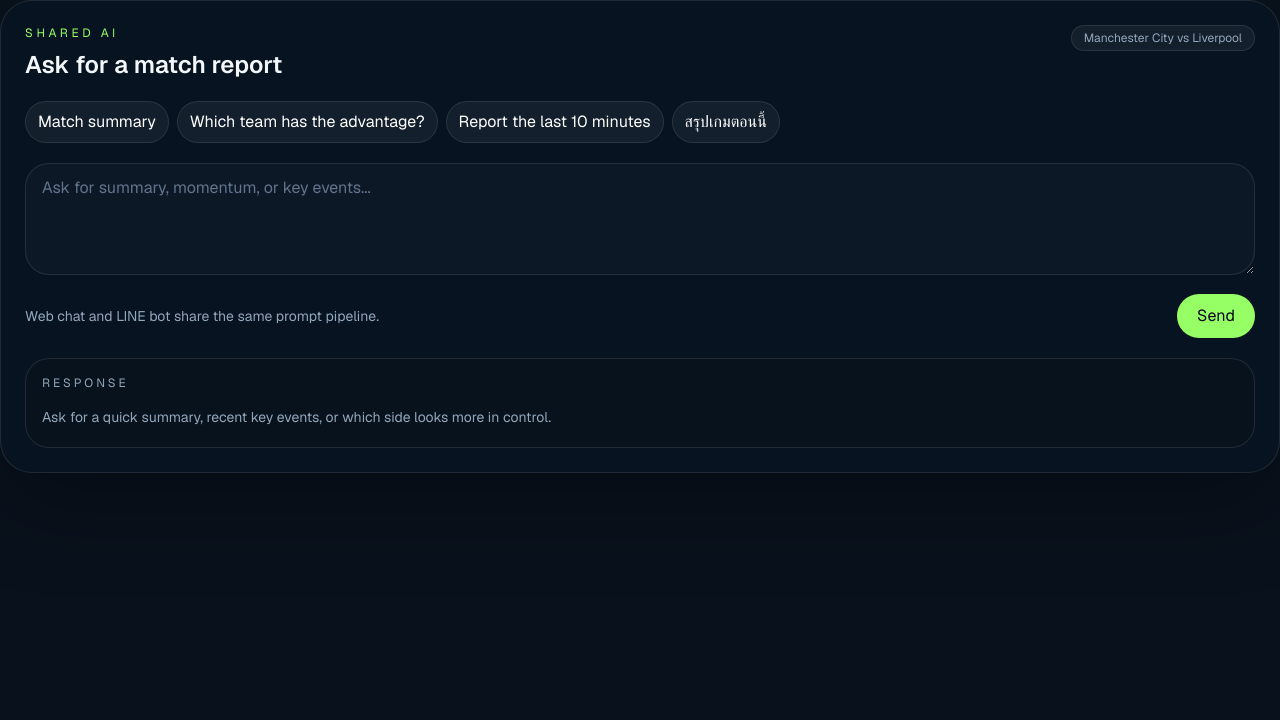
Test: ChatPanel › shows the returned chat answer after sending a message
The width and height of the screenshot is (1280, 720).
Type "Who has the advantage?" into the text box at (640, 219), box top-left (25, 163), bottom-right (1255, 275)
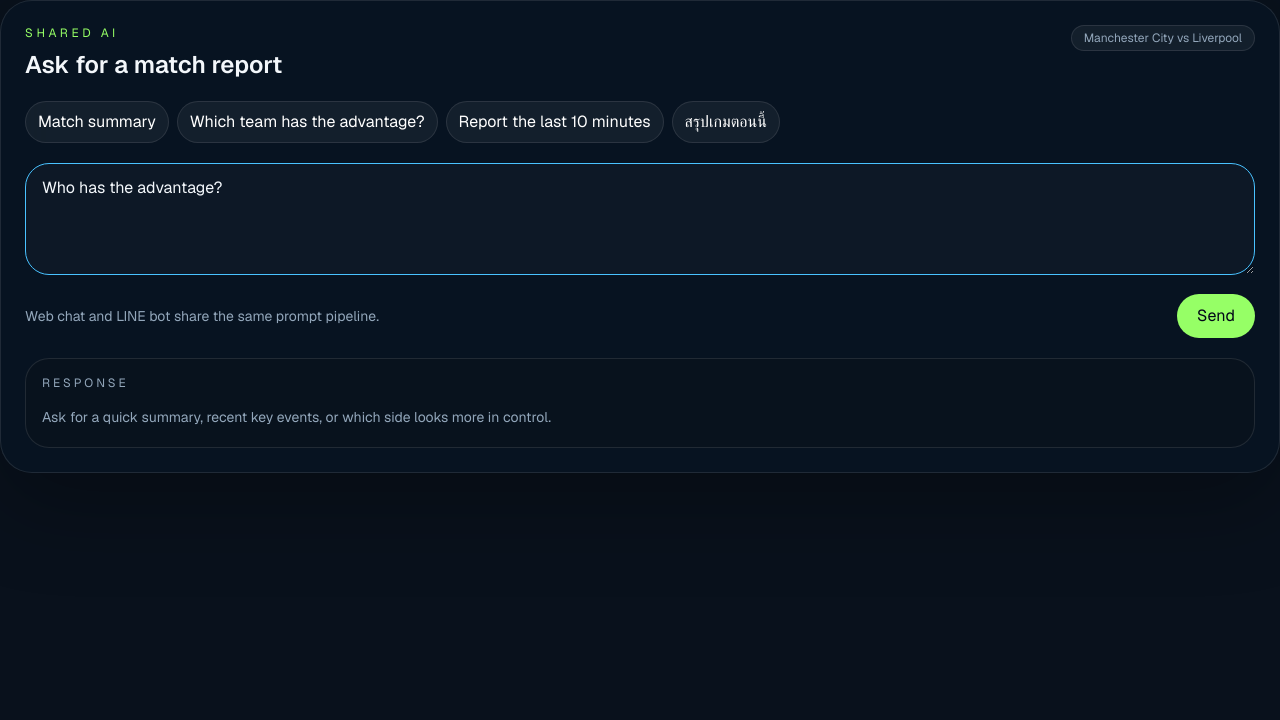
Click the button "Send" at (1216, 316), box top-left (1177, 294), bottom-right (1255, 338)
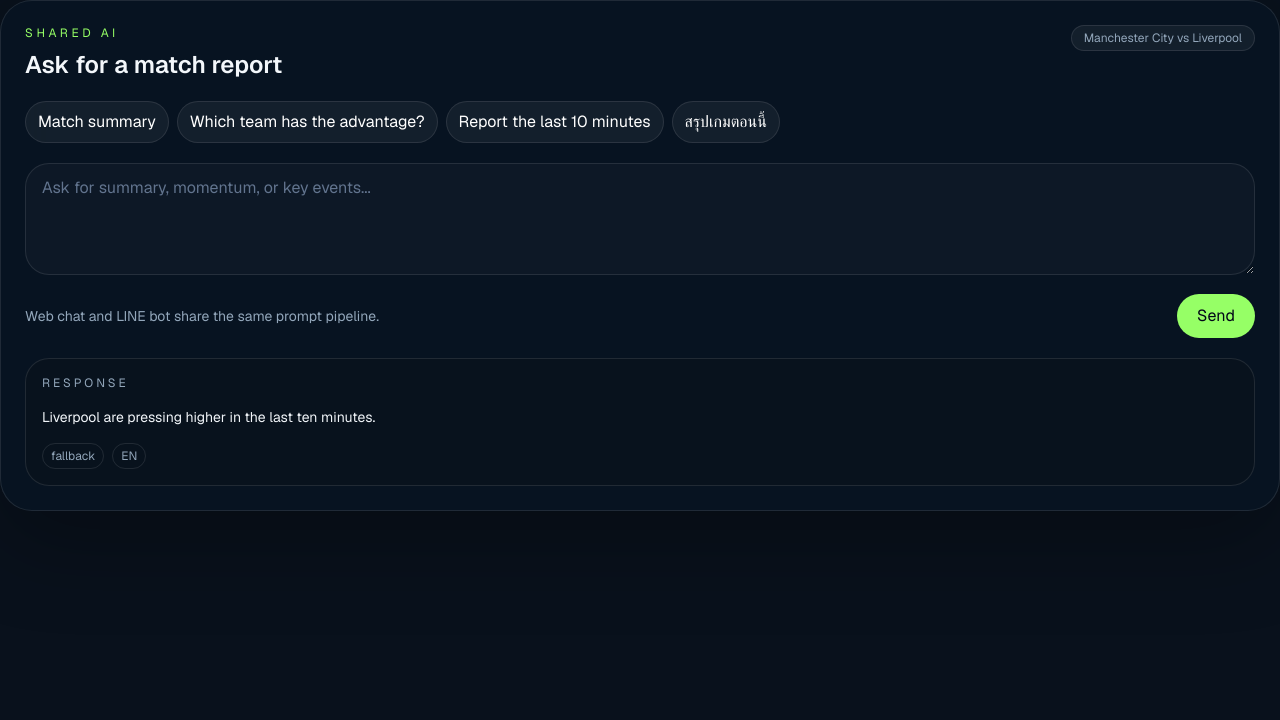
Expected: the text "Liverpool are pressing higher in the last ten minutes." is shown, top-left (42, 408), bottom-right (375, 426)
